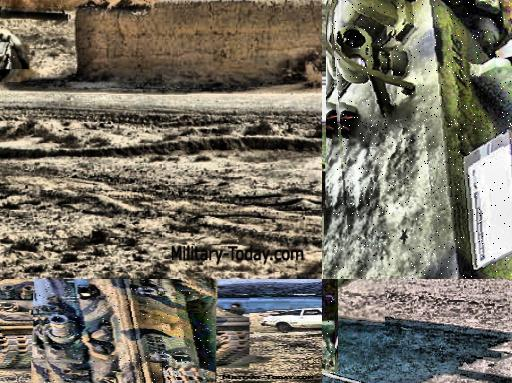tanks: (334, 1, 512, 280), (39, 281, 216, 383), (1, 44, 30, 69), (1, 11, 66, 19)
